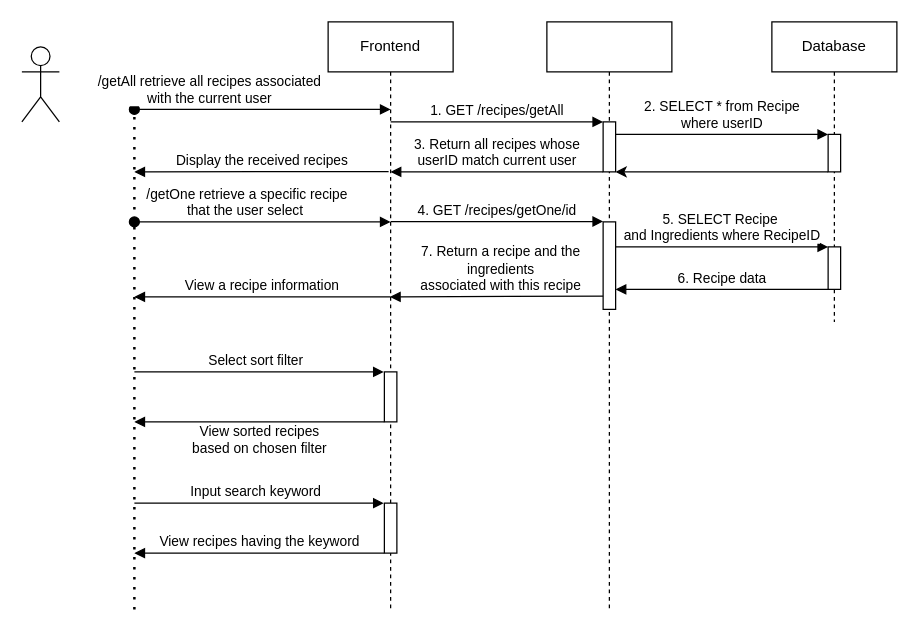
This 919x634 diagram has some shape labels left out. The centre of each missing label's shape, as x and y in pixels:
API: the point at 609,315
User: the point at 40,84
